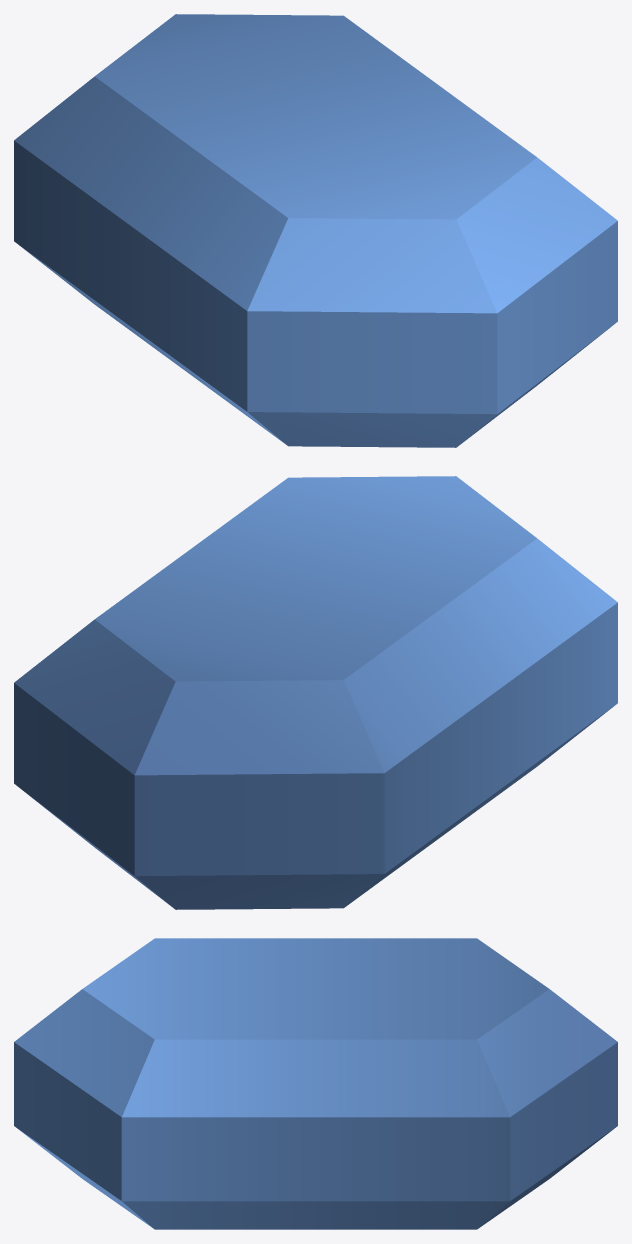
The model's file is Crystal008.fbx.
The picture shows the model from 3 angles, top to bottom: view 1: azimuth 30°, elevation 25°; view 2: azimuth 150°, elevation 25°; view 3: azimuth 270°, elevation 25°; orthographic projection. The views are drawn at different scales.
Visible parts, largest first — view 1: Crystal008; view 2: Crystal008; view 3: Crystal008.
Part boxes in pixels (bbox=[...]): Crystal008: bbox=[14, 14, 617, 447]; Crystal008: bbox=[14, 476, 617, 909]; Crystal008: bbox=[14, 938, 617, 1229].
Bounding box in the file's own units: 85.49 × 50.3 × 145.
